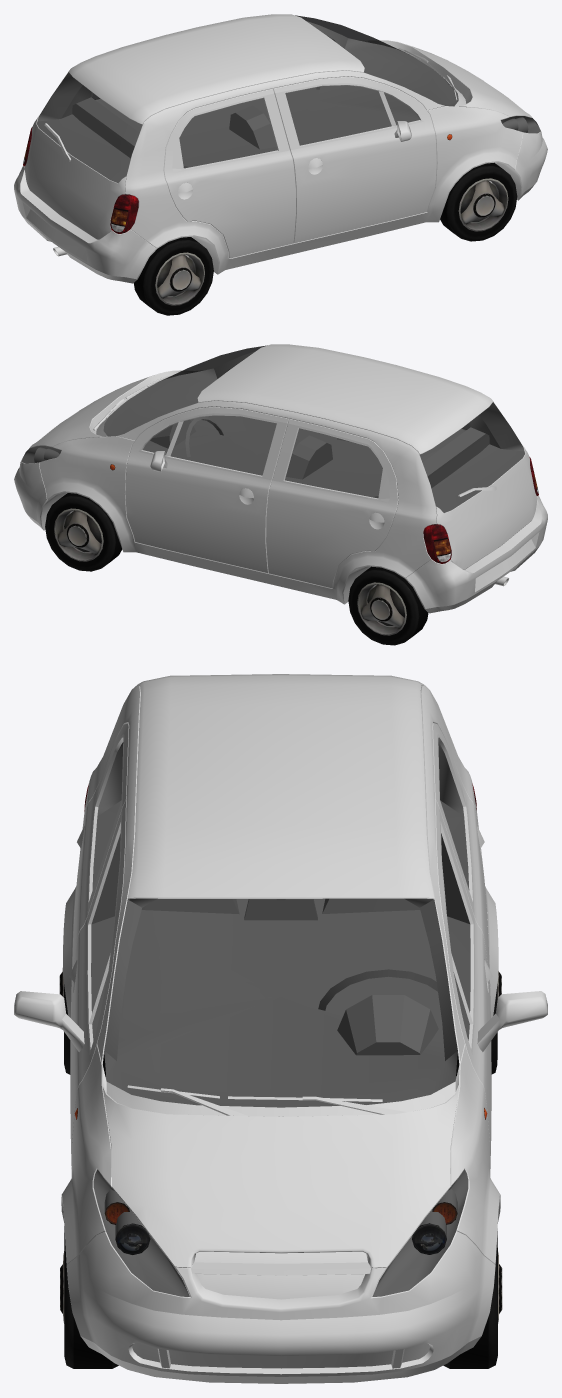
File: gcompact.glb
3 renders of one model, top to bottom at view 1: azimuth 30°, elevation 25°; view 2: azimuth 150°, elevation 25°; view 3: azimuth 270°, elevation 25°, orthographic. The views are drawn at different scales.
Visible parts, largest first — view 1: body, spin_RR, spin_FR; view 2: body, spin_RL, spin_FL; view 3: body, spin_FL, spin_FR.
Boxes of the visible parts, x1=… form: body: x1=14, y1=14, x2=547, y2=283; spin_RR: x1=134, y1=237, x2=213, y2=315; spin_FR: x1=440, y1=162, x2=517, y2=241; body: x1=14, y1=344, x2=547, y2=613; spin_RL: x1=348, y1=566, x2=428, y2=645; spin_FL: x1=45, y1=493, x2=122, y2=571; body: x1=14, y1=674, x2=547, y2=1383; spin_FL: x1=443, y1=1231, x2=502, y2=1368; spin_FR: x1=60, y1=1226, x2=118, y2=1368.
Size of the model in its own units: 3.7 by 1.49 by 1.83.
Materials: 4 (2 with a texture image).
